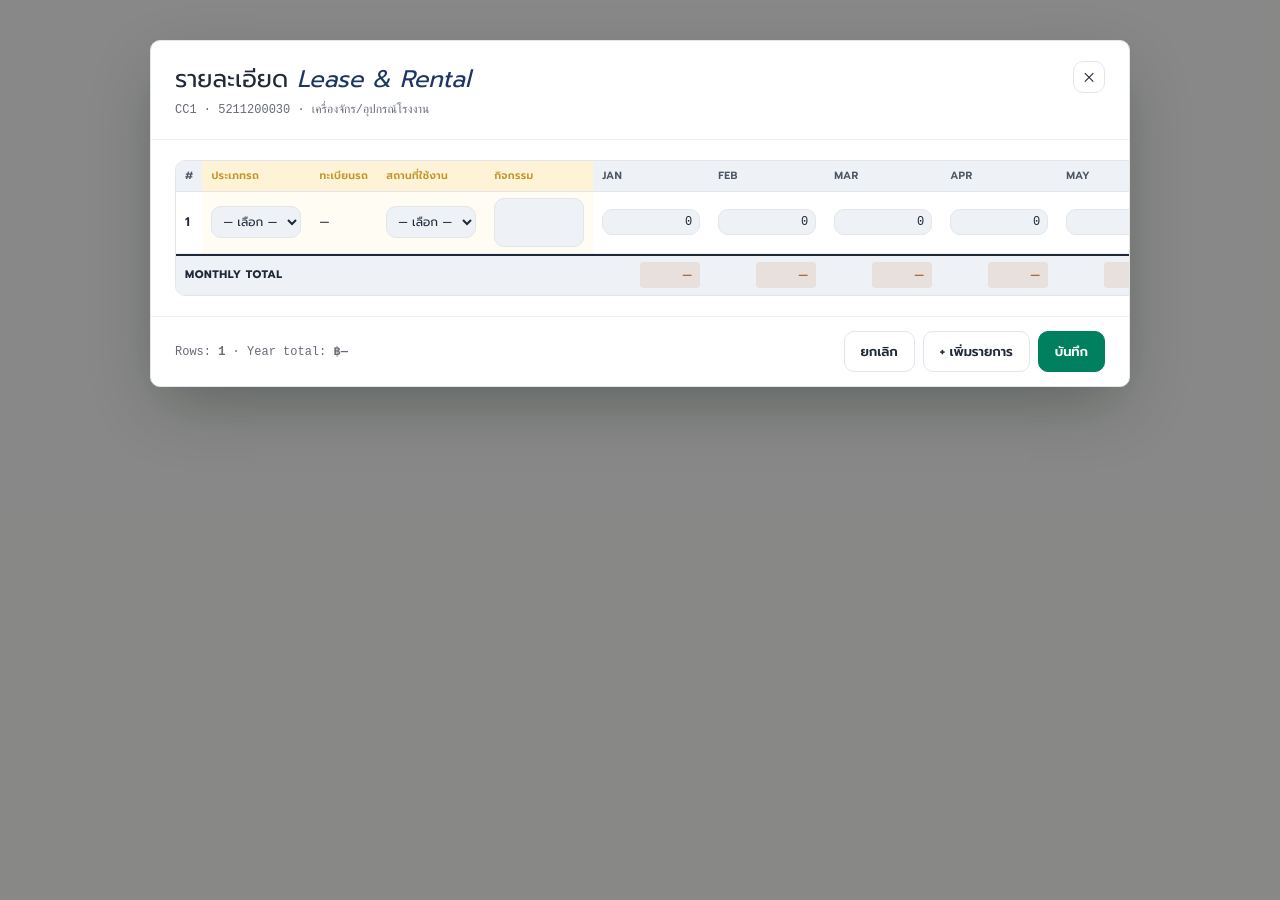
Test case: DetailSubform › every ENTERABLE field is required, or the save is blocked (jakkaritw 2026-08-20, verbatim: "บังคับกรอก หรือ เลือกดรอปดาวทั้งหมด ไม่งั้น ไม่ไห้บันทึก") › Lease & Rental machinery GL 5211200030 — ประเภทรถ blank + กิจกรรม blank both block the save (real staging report)
This screenshot has width=1280, height=900.
Select "BK" in the dropdown named "สถานที่ใช้งาน" at [431, 222], box [386,206,476,238]
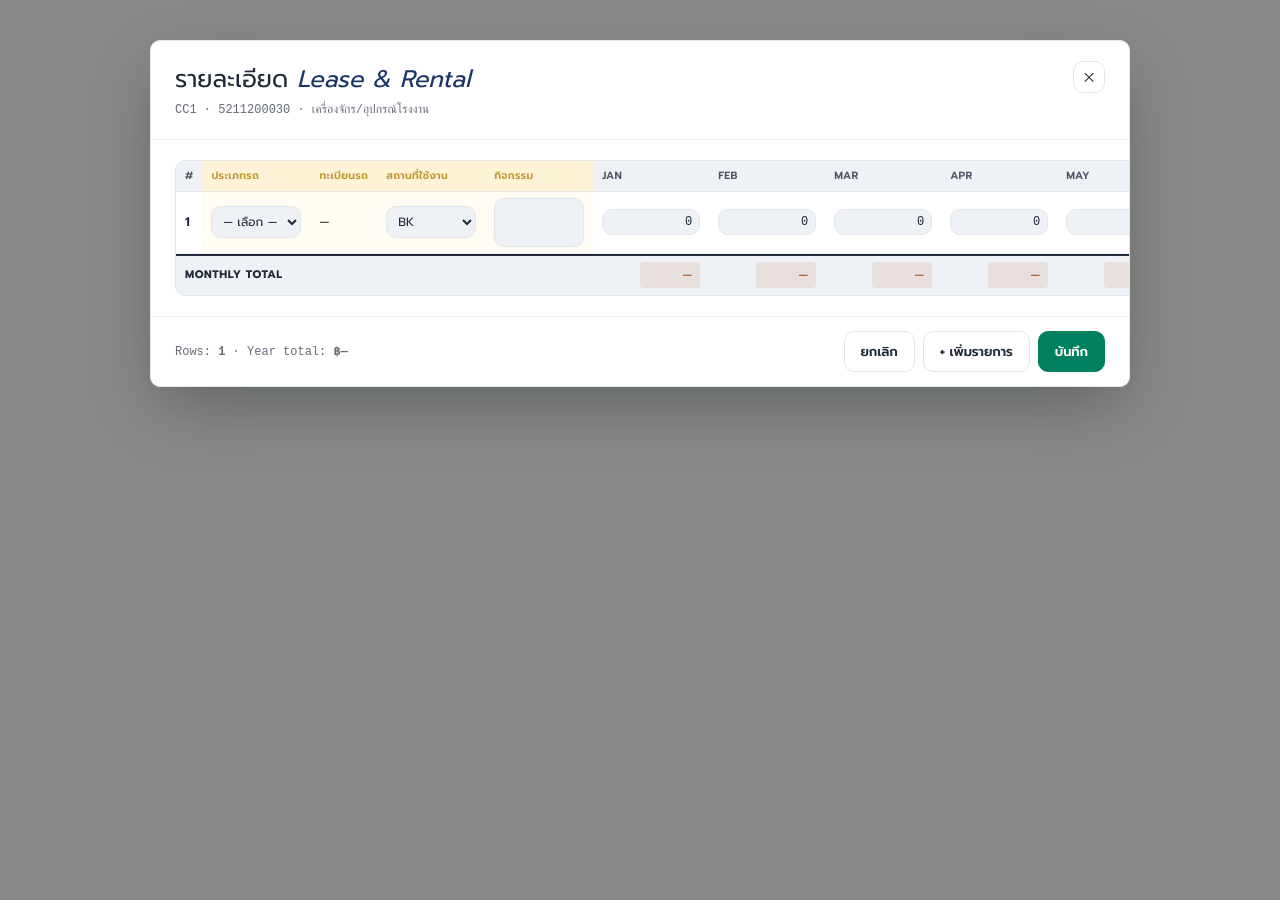
Click the button with test id "save-all" at [1071, 352], box [1038,331,1105,372]
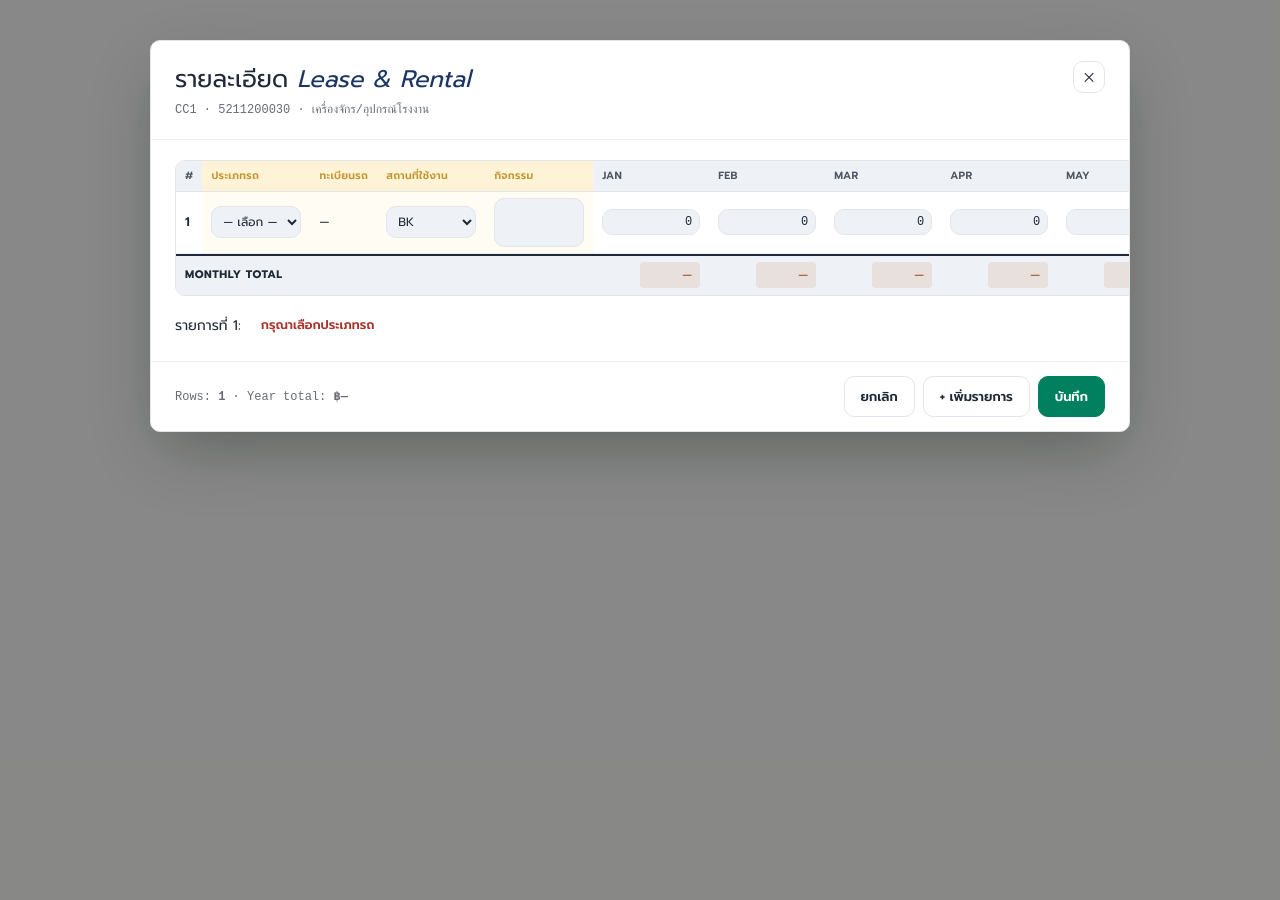
Check: the text "กรุณาเลือกประเภทรถ" is shown, box [251,310,384,341]
